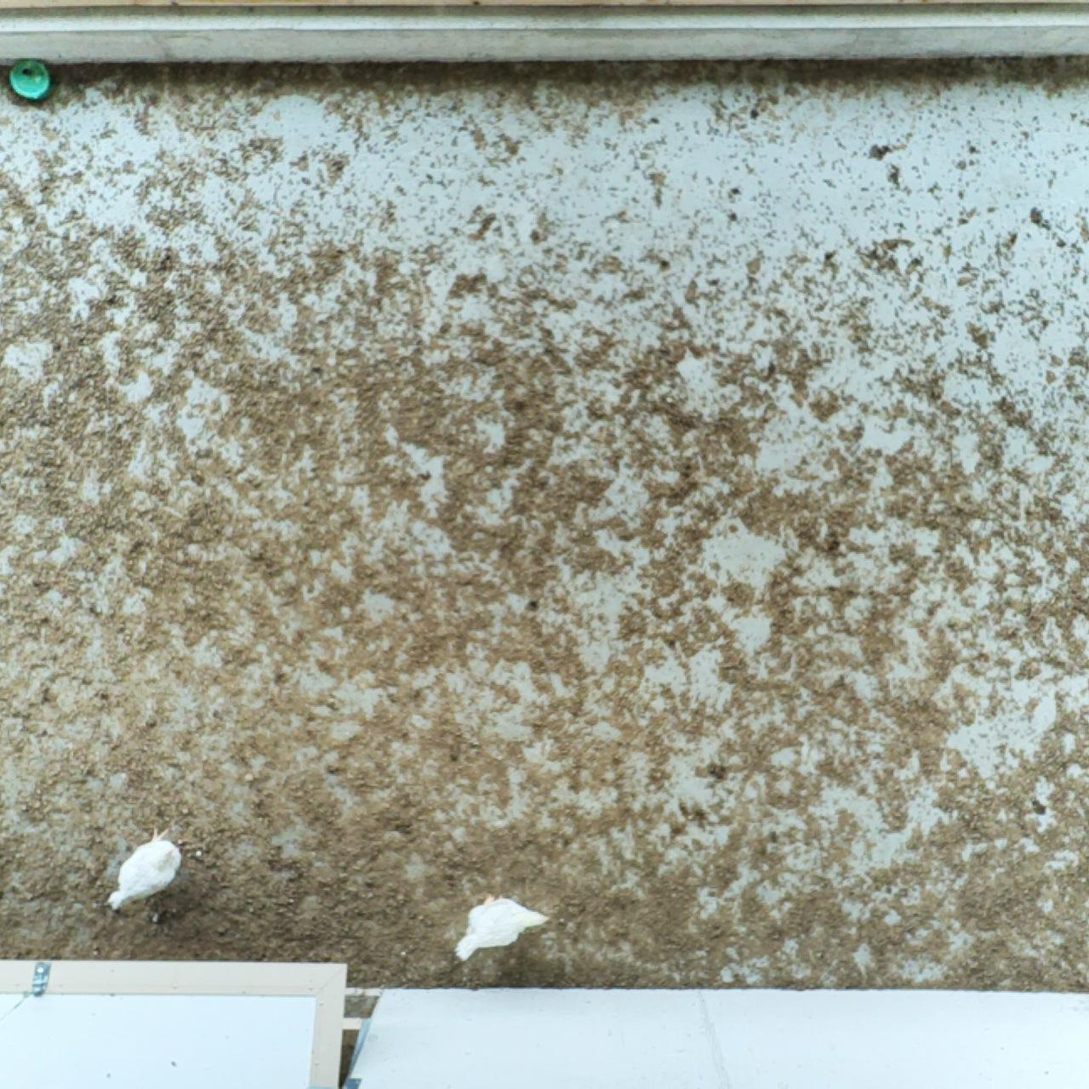chicken: (449, 891, 553, 969), (103, 825, 190, 917)
